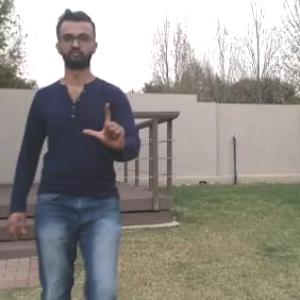land_hand: (80, 98, 131, 157)
